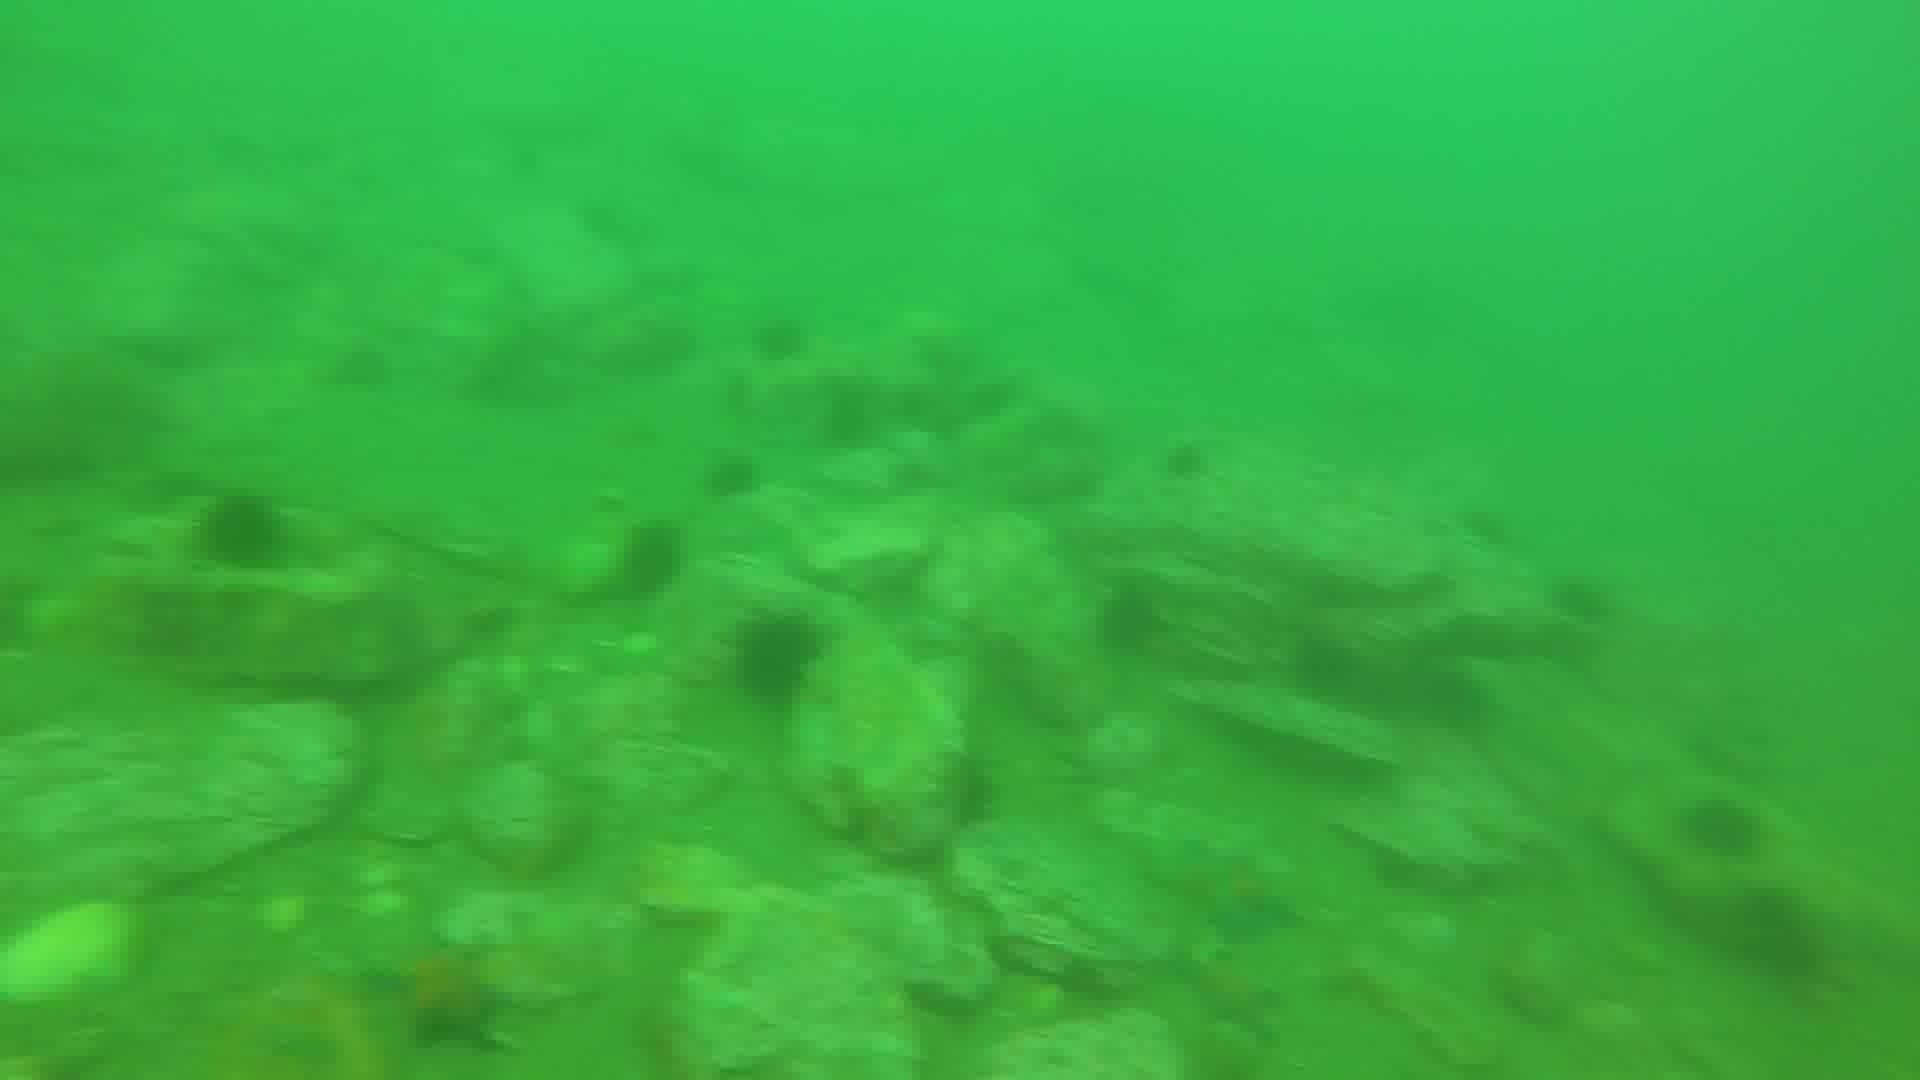echinus: (1725, 884, 1836, 993), (727, 608, 829, 709), (191, 491, 290, 575), (1677, 793, 1767, 864), (615, 518, 690, 600), (1284, 632, 1365, 707), (1092, 580, 1171, 655), (814, 380, 886, 456), (1545, 571, 1615, 630), (748, 311, 814, 368), (702, 448, 767, 505), (1156, 436, 1213, 487)
starfish: (363, 935, 512, 1054), (1171, 843, 1305, 945), (1182, 951, 1284, 1036)
